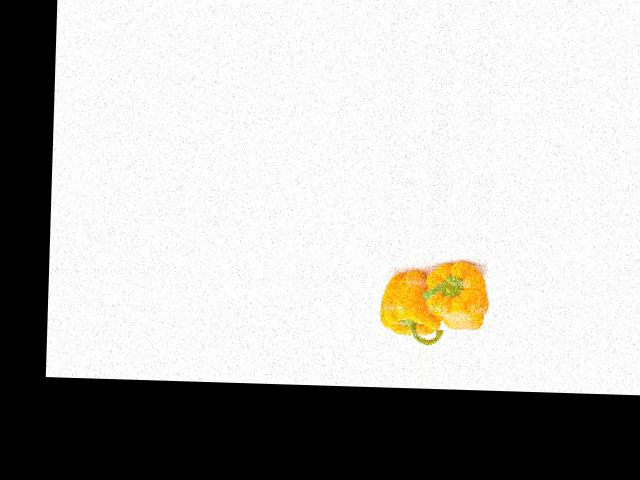bell_pepper: (378, 268, 448, 343)
